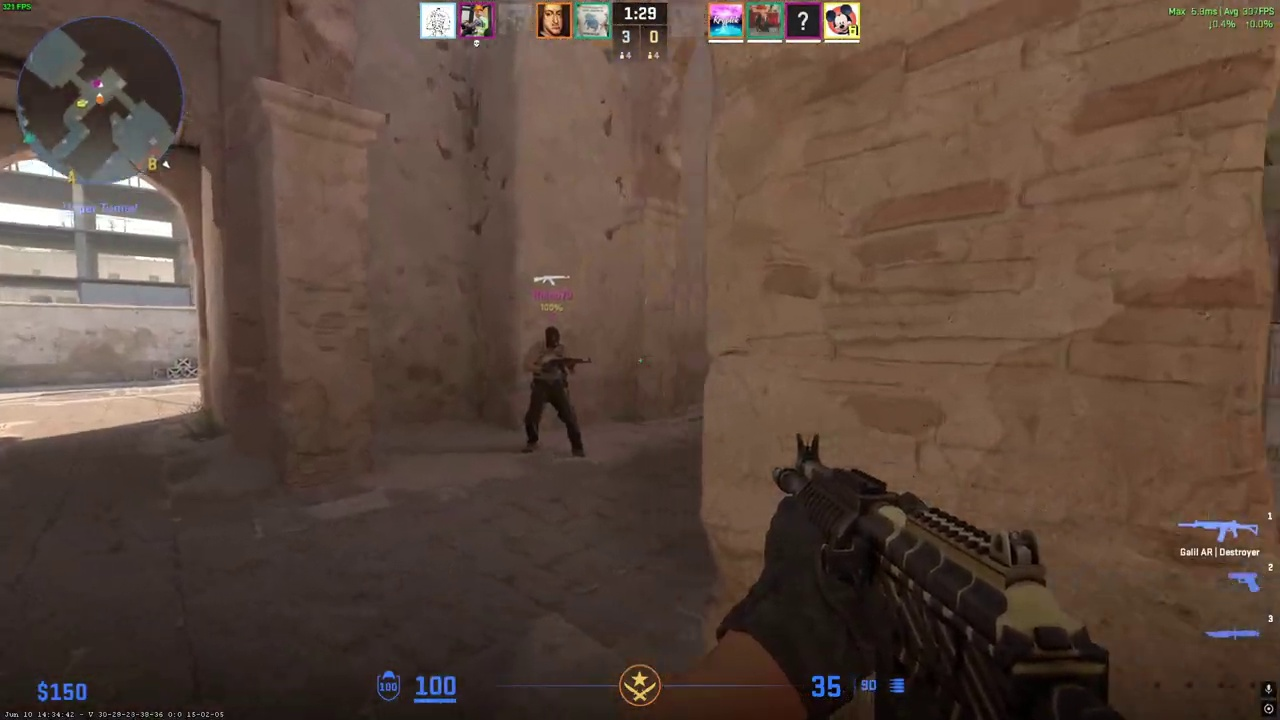Terrorist: (521, 326, 583, 458)
